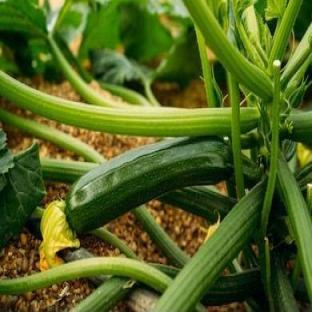Zucchini: (66, 137, 232, 232)
